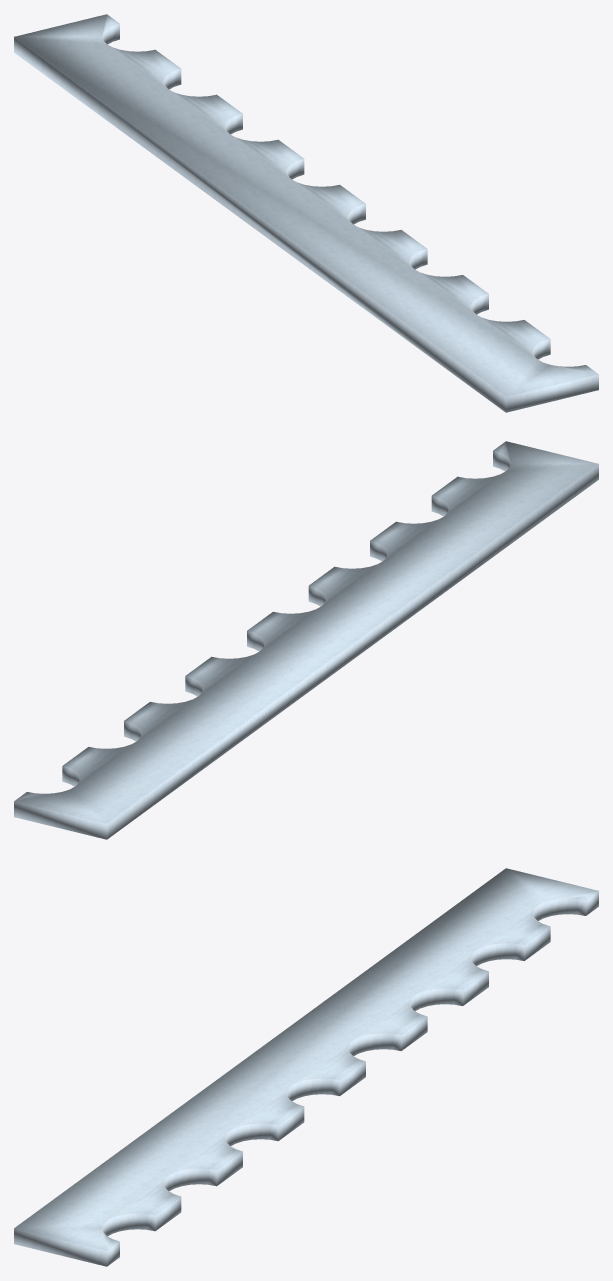
Rendered from Cuevamultiple.dae.
The picture shows the model from 3 angles, top to bottom: view 1: azimuth 30°, elevation 25°; view 2: azimuth 150°, elevation 25°; view 3: azimuth 330°, elevation 25°; orthographic projection.
Parts seen in each view (by area): view 1: group_0 (×2); view 2: group_0 (×2); view 3: group_0 (×2).
Part boxes in pixels (x1,y1,x2,y2): group_0 (×2): [14, 14, 598, 412]; group_0 (×2): [14, 441, 598, 839]; group_0 (×2): [14, 868, 598, 1266].
Bounding box in the file's own units: 442 × 4050 × 71.65.
Materials: 2 (2 with a texture image).
